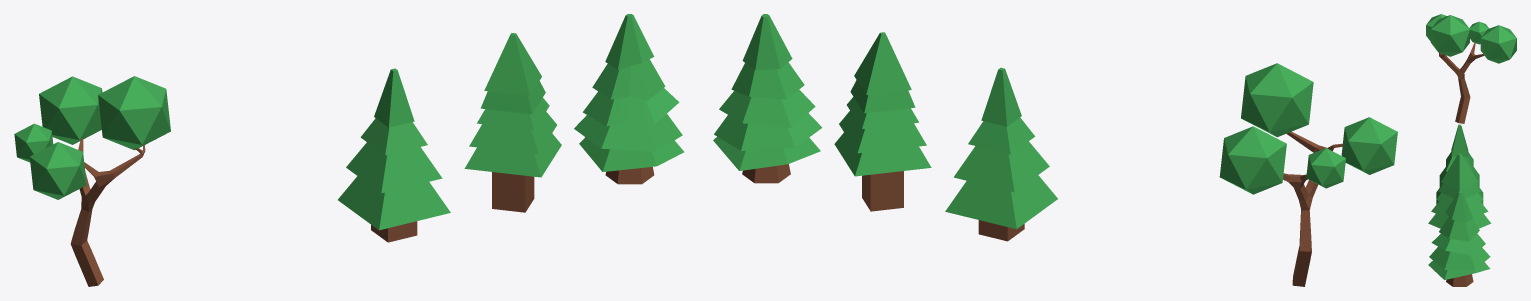
The picture shows the model from 3 angles, left to right: view 1: azimuth 30°, elevation 25°; view 2: azimuth 150°, elevation 25°; view 3: azimuth 270°, elevation 25°; orthographic projection. The views are drawn at different scales.
Visible parts, largest first — view 1: Cylinder.008, Icosphere.001, Cube.003, Icosphere.003, Cube.004, Cylinder.002, Icosphere, Cube, Cylinder.003, Cylinder.004, Cylinder.001, Cylinder.005 (+5 smaller); view 2: Cylinder.008, Icosphere.001, Cube.003, Icosphere.003, Cube.004, Icosphere, Cylinder.002, Cylinder.003, Cube, Cylinder.004, Cylinder.001, Cylinder.005 (+5 smaller); view 3: Cylinder.008, Icosphere.001, Icosphere.003, Cylinder.002, Cube, Cylinder.003, Cylinder.004, Cylinder.005, Cylinder.001, Cube.006, Icosphere.002, Cylinder (+4 smaller).
Boxes of the visible parts, x1,y1,x2,y2 form: Cylinder.008: (464,33,561,212); Icosphere.001: (98,76,170,150); Cube.003: (338,176,450,230); Icosphere.003: (39,76,102,144); Cube.004: (346,142,442,193); Cylinder.002: (574,114,682,151); Icosphere: (29,142,86,199); Cube: (70,139,145,286); Cylinder.003: (583,88,679,126); Cylinder.004: (592,59,665,100); Cylinder.001: (579,137,684,171); Cylinder.005: (605,14,654,69); Cylinder.008: (834,32,931,211); Icosphere.001: (1241,63,1313,137); Cube.003: (945,175,1057,229); Icosphere.003: (1219,126,1286,194); Cube.004: (953,141,1049,192); Icosphere: (1341,117,1397,174); Cylinder.002: (714,113,822,150); Cylinder.003: (719,89,815,127); Cube: (1283,131,1342,286); Cylinder.004: (731,62,804,99); Cylinder.001: (713,136,820,170); Cylinder.005: (742,14,792,70); Cylinder.008: (1428,153,1491,228); Icosphere.001: (1430,15,1469,56); Icosphere.003: (1480,25,1516,63); Cylinder.002: (1429,246,1490,269); Cube: (1439,42,1484,123); Cylinder.003: (1431,233,1485,255); Cylinder.004: (1439,217,1479,241); Cylinder.005: (1445,191,1472,222); Cylinder.001: (1428,260,1490,279); Cube.006: (1451,124,1468,156); Icosphere.002: (1469,21,1488,44); Cylinder: (1446,274,1473,286).
Size of the model in its own units: 3085 by 1030 by 660.
